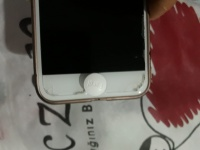Parol: (82, 72, 107, 96)
